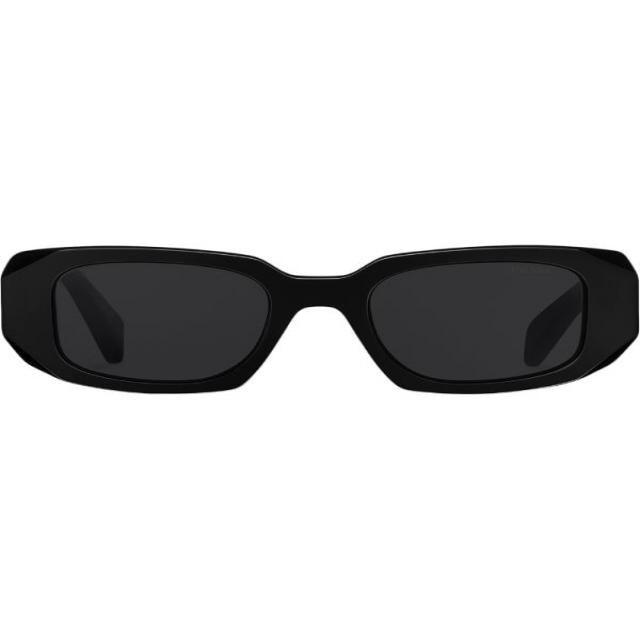suspicious-objects: (9, 232, 630, 406)
